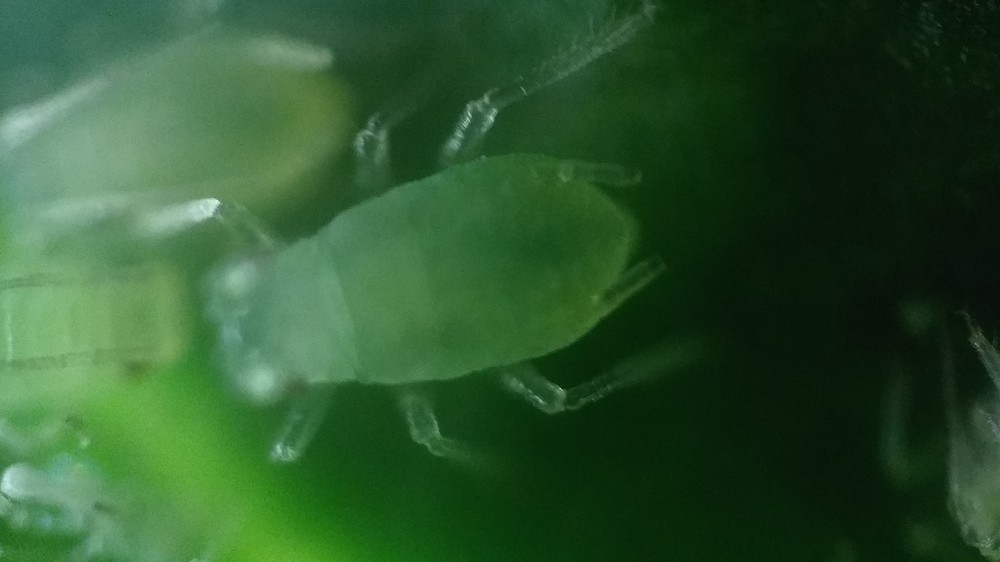Pulgon: (174, 42, 725, 511)
